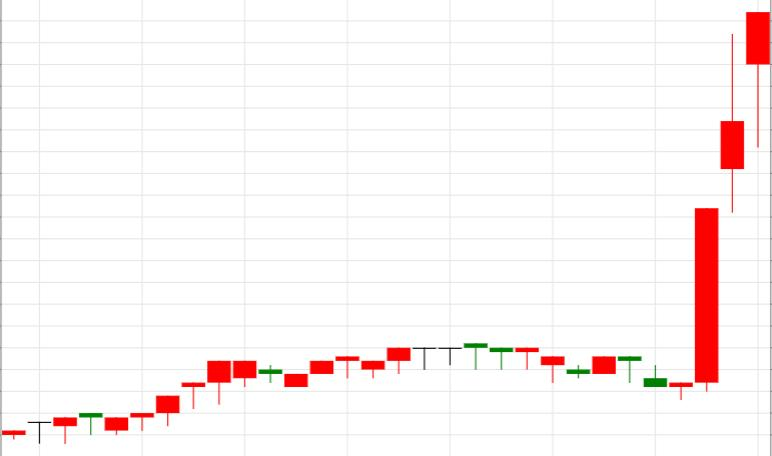hanging_man_fall: (669, 12, 771, 401)
